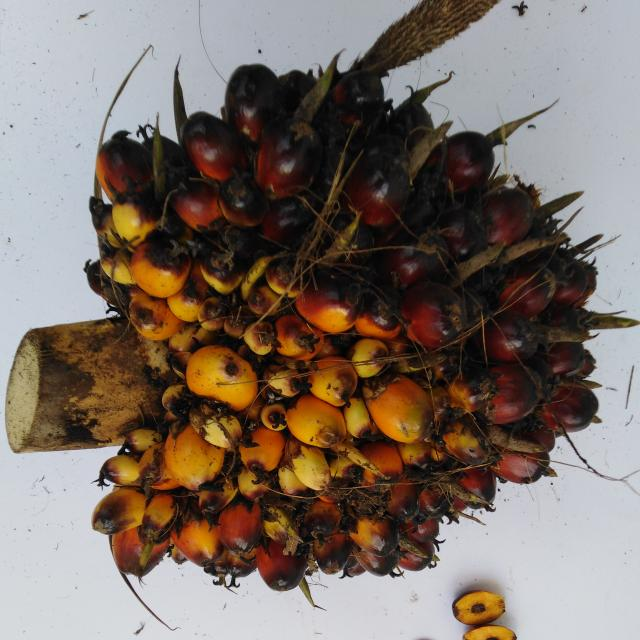FFB: (99, 66, 594, 584)
